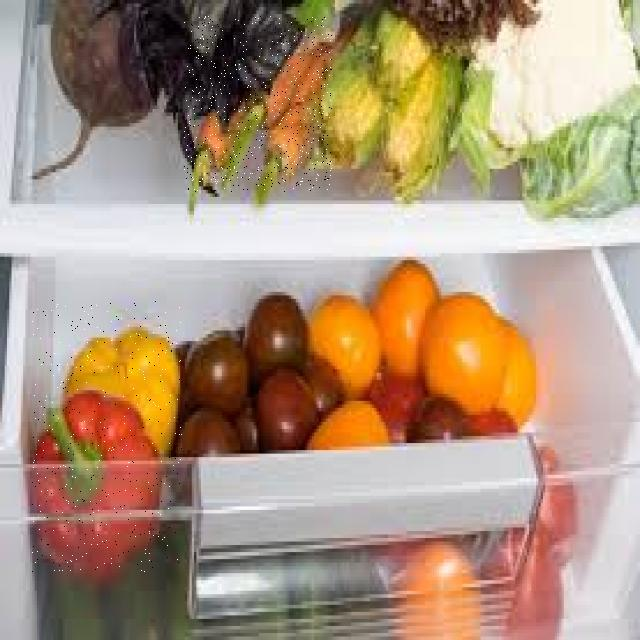carrots: (184, 16, 332, 192)
peppers: (32, 300, 182, 572)
